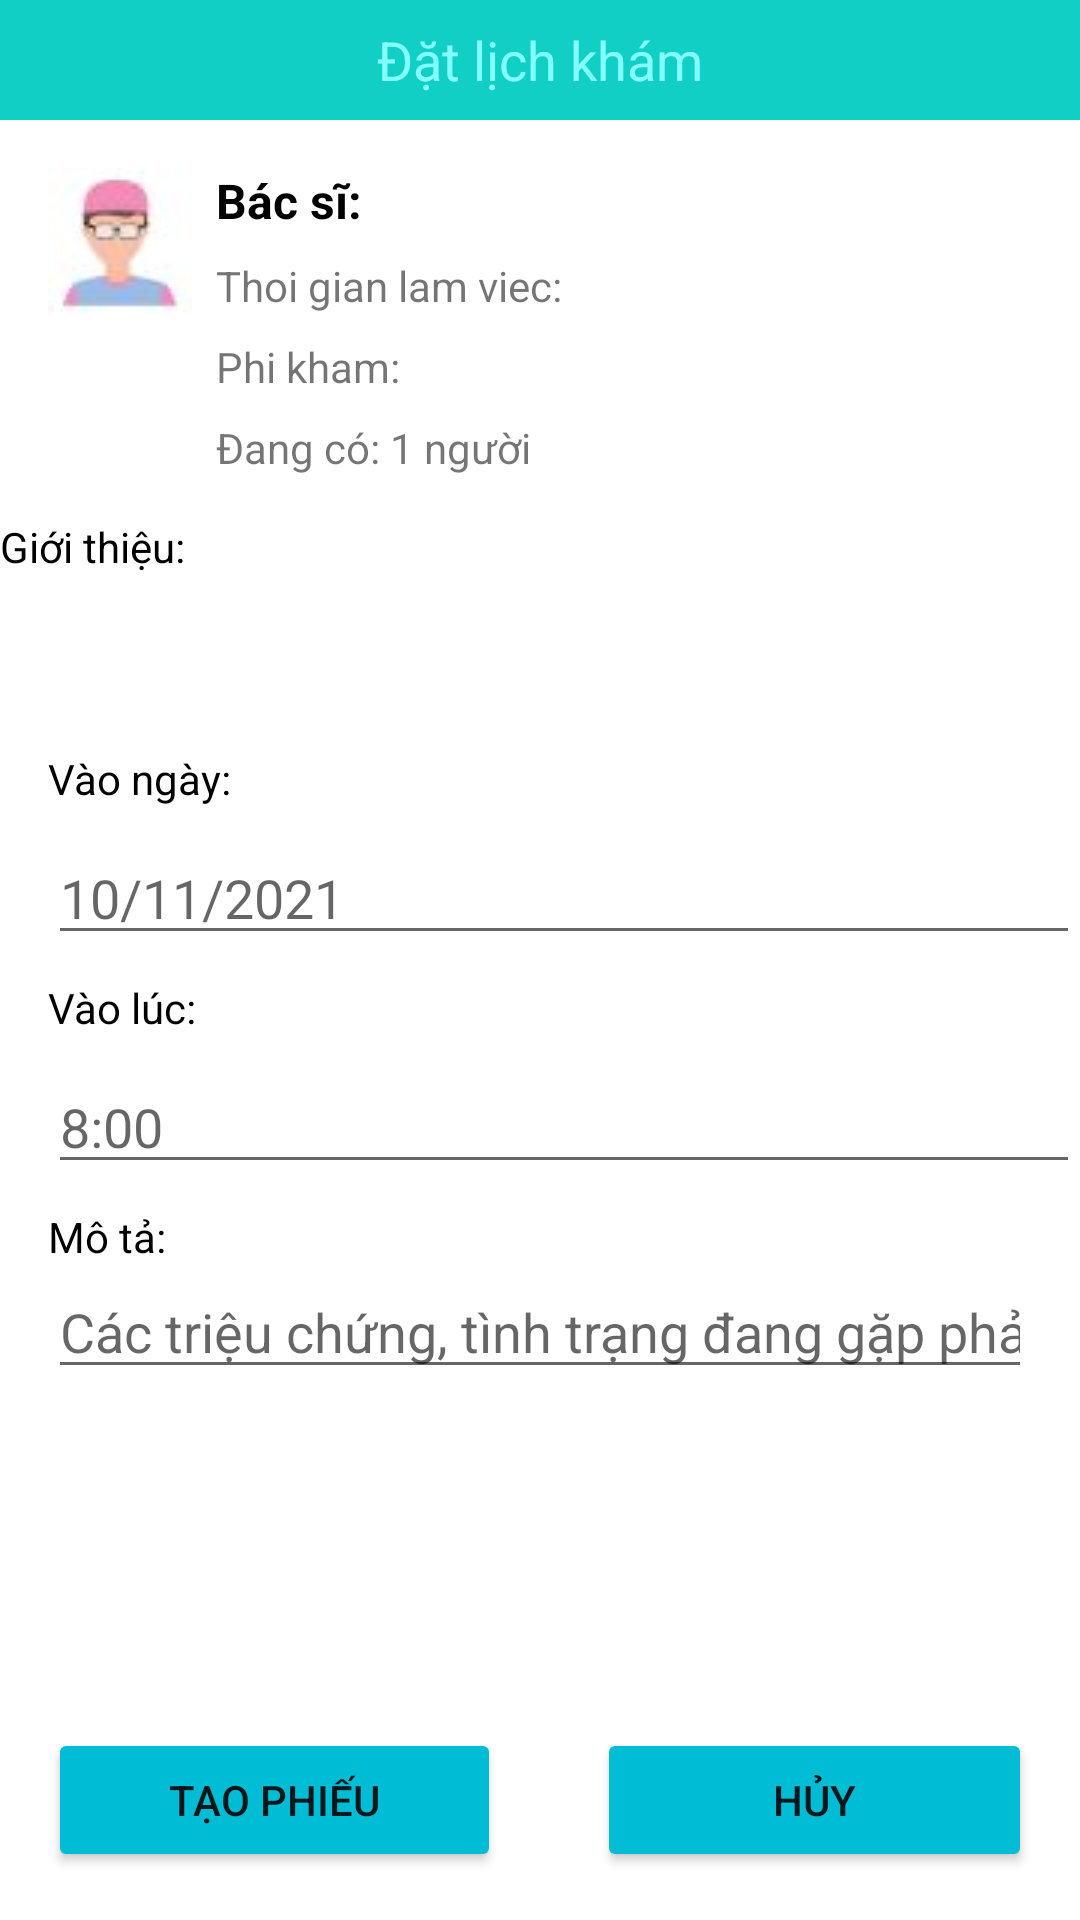

Point at icon controls on the screen. Image size 1080×1920, points as (x=x, y=y).
doctor: (x=119, y=243)
